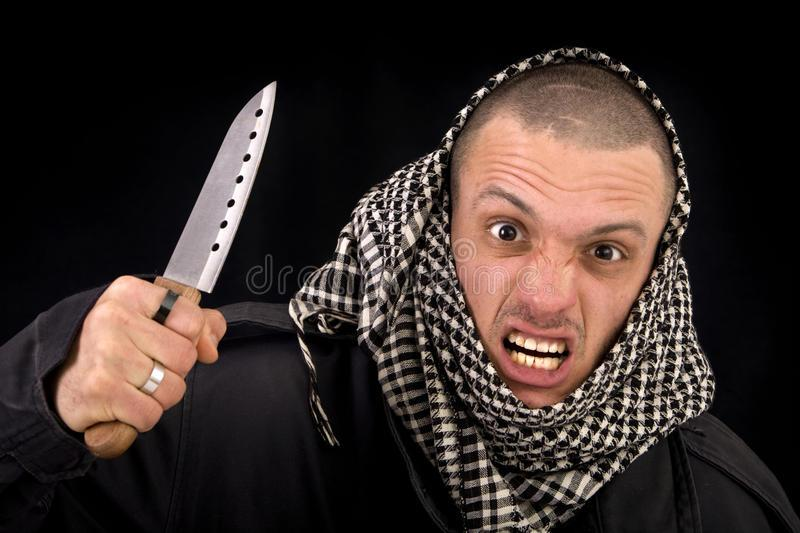criminal: (0, 43, 800, 533)
weapon: (80, 78, 282, 462)
